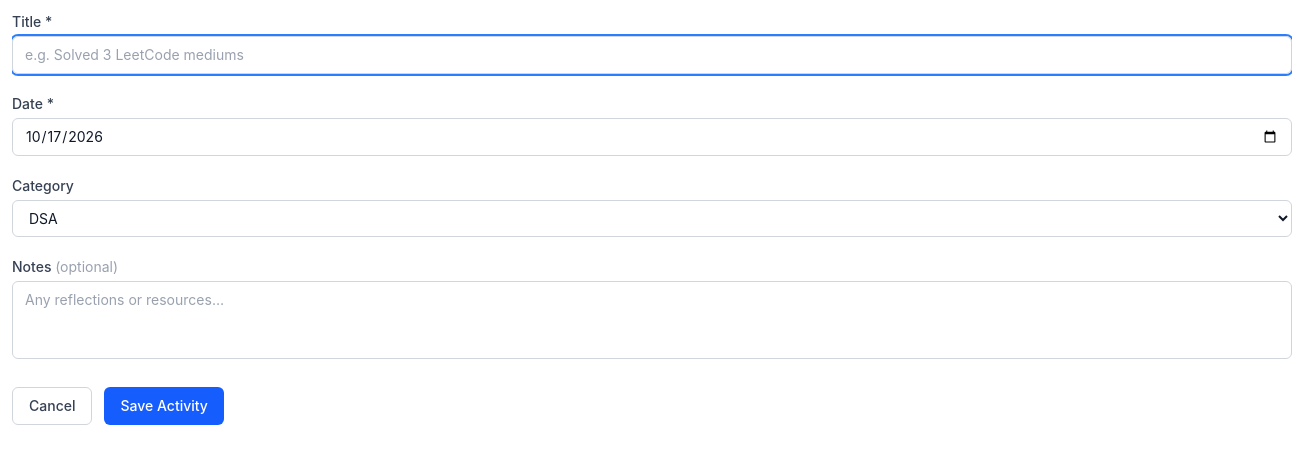
it: ActivityForm › clears title error when user types in the field
Trigger error
Click the button "Save Activity". click: (164, 406)
box: x1=104 y1=387 x2=224 y2=425
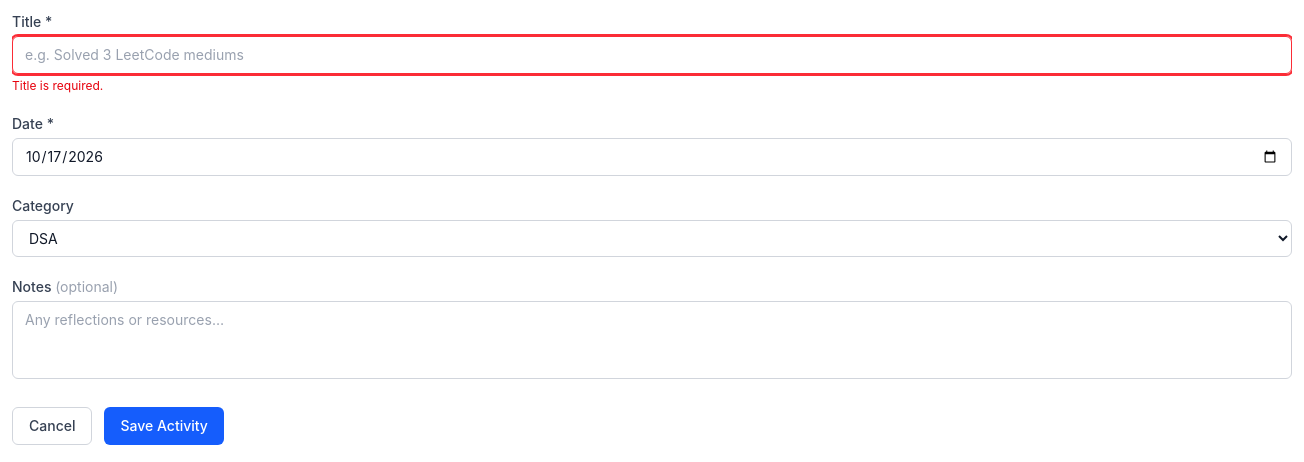
Expected: the text "Title is required." is shown, x1=12 y1=78 x2=103 y2=93
Type to clear
Type "New title" into the field labelled "Title *". click: (652, 55)
box: x1=12 y1=36 x2=1292 y2=74
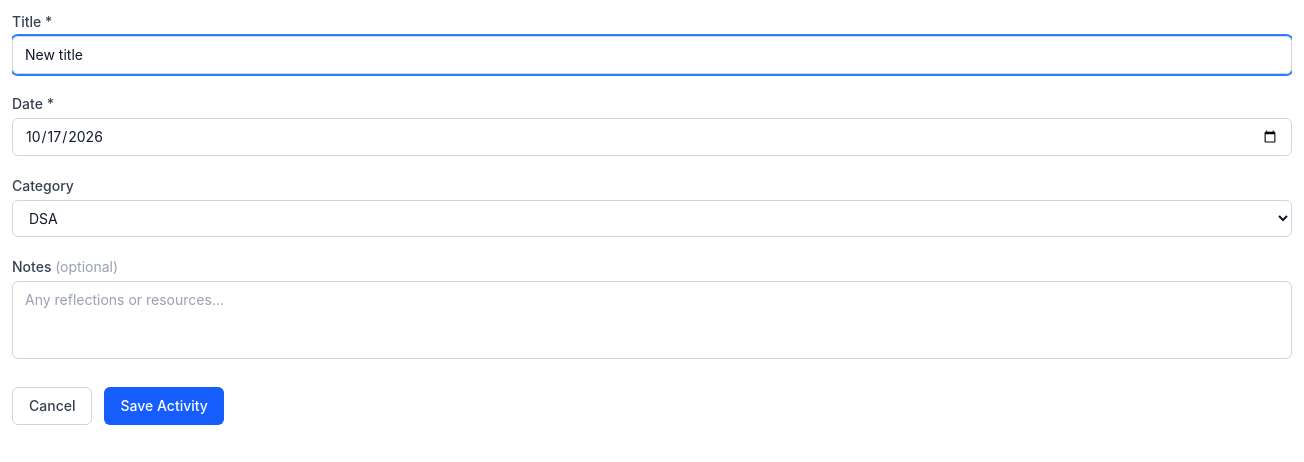
Expected: the text "Title is required." is gone
